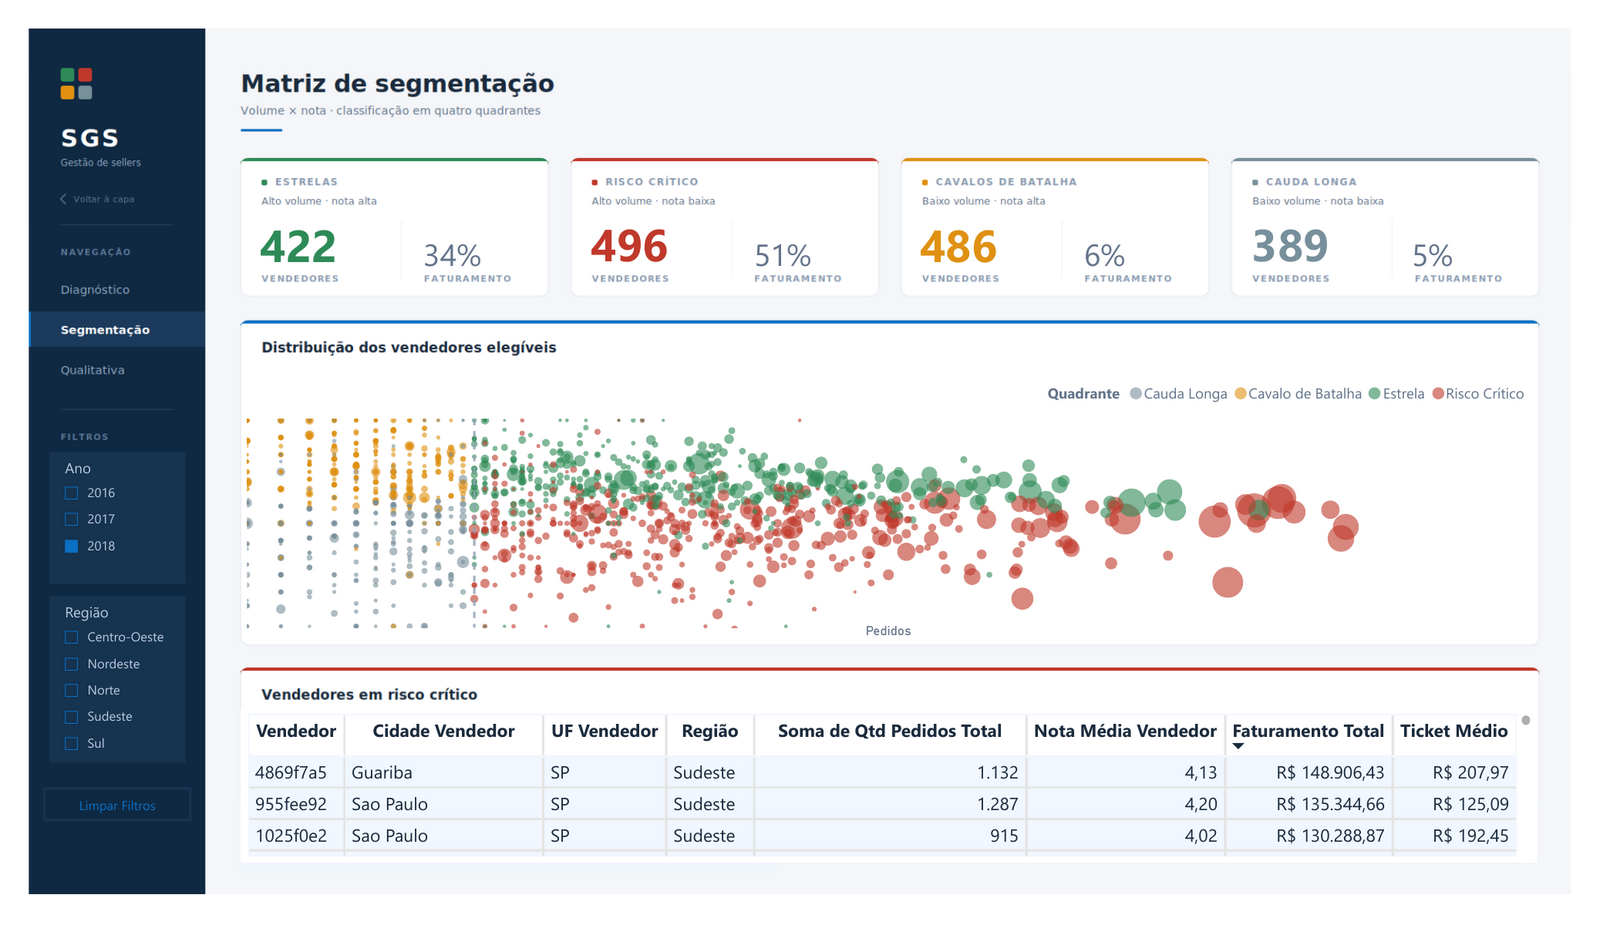

This screenshot's page, from the dashboard's own definition file:
{"tool":"powerbi","page":{"name":"Segmentação","canvas":[1280,720],"ordinal":2},"visuals":[{"type":"shape","box":[176,684,442.5,15],"z":0},{"type":"slicer","fields":{"Values":["dCalendario.Ano"]},"box":[16.7,351.4,112.9,109.5],"z":1000},{"type":"slicer","fields":{"Values":["dVendedor.Região"]},"box":[16.7,470.7,112.9,138.6],"z":2000},{"type":"actionButton","box":[11.5,629.5,123,28.5],"z":3000},{"type":"actionButton","box":[0,201.7,146.5,31.3],"z":4000},{"type":"actionButton","box":[0,236.1,146.5,31.3],"z":5000},{"type":"actionButton","box":[0,267.4,146.5,31.3],"z":6000},{"type":"actionButton","box":[0,127.4,146.5,31.3],"z":7000},{"type":"cardVisual","fields":{"Data":["_Medidas.Qtd Estrelas"]},"box":[163.2,142.6,127.9,67.9],"z":8000},{"type":"cardVisual","fields":{"Data":["_Medidas.Qtd Risco Crítico"]},"box":[430.7,128,136,97.3],"z":9000},{"type":"cardVisual","fields":{"Data":["_Medidas.Qtd Cavalos de Batalha"]},"box":[704,134.7,136,84],"z":10000},{"type":"cardVisual","fields":{"Data":["_Medidas.Qtd Cauda Longa"]},"box":[976,135.3,143.3,82.7],"z":11000},{"type":"cardVisual","fields":{"Data":["_Matriz.% Fat Estrelas"]},"box":[299.5,154.2,111.6,62.6],"z":12000},{"type":"cardVisual","fields":{"Data":["_Matriz.% Fat Risco Crítico"]},"box":[573.3,154,111.6,62.6],"z":13000},{"type":"cardVisual","fields":{"Data":["_Matriz.% Fat Cavalos"]},"box":[847.3,154,111.6,62.6],"z":14000},{"type":"cardVisual","fields":{"Data":["_Matriz.% Fat Cauda Longa"]},"box":[1119.3,154,111.6,62.6],"z":15000},{"type":"scatterChart","fields":{"Category":["dVendedor.Vendedor"],"Series":["dVendedor.Quadrante"],"Size":["_Medidas.Faturamento Total"],"X":["Sum(dVendedor.Qtd Pedidos Total)"],"Y":["_Medidas.Nota Média Vendedor"]},"box":[176,283,1075,228],"z":16000},{"type":"tableEx","title":"Vendedores em risco crítico","fields":{"Values":["dVendedor.Vendedor","dVendedor.Cidade Vendedor","dVendedor.UF Vendedor","dVendedor.Região","Sum(dVendedor.Qtd Pedidos Total)","_Medidas.Nota Média Vendedor","_Medidas.Faturamento Total","_Medidas.Ticket Médio"]},"box":[176,564,1076,128],"z":17000}]}

Visuals, with their boxes on the page's 1280x720 design canvas (x1, y1, x2, y2). These are canvas units, not pixel positions in the 1600x925 screenshot, which may show the page scaled, cropped or inside an application window:
shape: Rect(176, 684, 618, 699)
slicer - dCalendario.Ano: Rect(17, 351, 130, 461)
slicer - dVendedor.Região: Rect(17, 471, 130, 609)
actionButton: Rect(12, 630, 134, 658)
actionButton: Rect(0, 202, 146, 233)
actionButton: Rect(0, 236, 146, 267)
actionButton: Rect(0, 267, 146, 299)
actionButton: Rect(0, 127, 146, 159)
cardVisual - _Medidas.Qtd Estrelas: Rect(163, 143, 291, 210)
cardVisual - _Medidas.Qtd Risco Crítico: Rect(431, 128, 567, 225)
cardVisual - _Medidas.Qtd Cavalos de Batalha: Rect(704, 135, 840, 219)
cardVisual - _Medidas.Qtd Cauda Longa: Rect(976, 135, 1119, 218)
cardVisual - _Matriz.% Fat Estrelas: Rect(300, 154, 411, 217)
cardVisual - _Matriz.% Fat Risco Crítico: Rect(573, 154, 685, 217)
cardVisual - _Matriz.% Fat Cavalos: Rect(847, 154, 959, 217)
cardVisual - _Matriz.% Fat Cauda Longa: Rect(1119, 154, 1231, 217)
scatterChart - dVendedor.Vendedor x dVendedor.Quadrante: Rect(176, 283, 1251, 511)
"Vendedores em risco crítico" tableEx: Rect(176, 564, 1252, 692)
